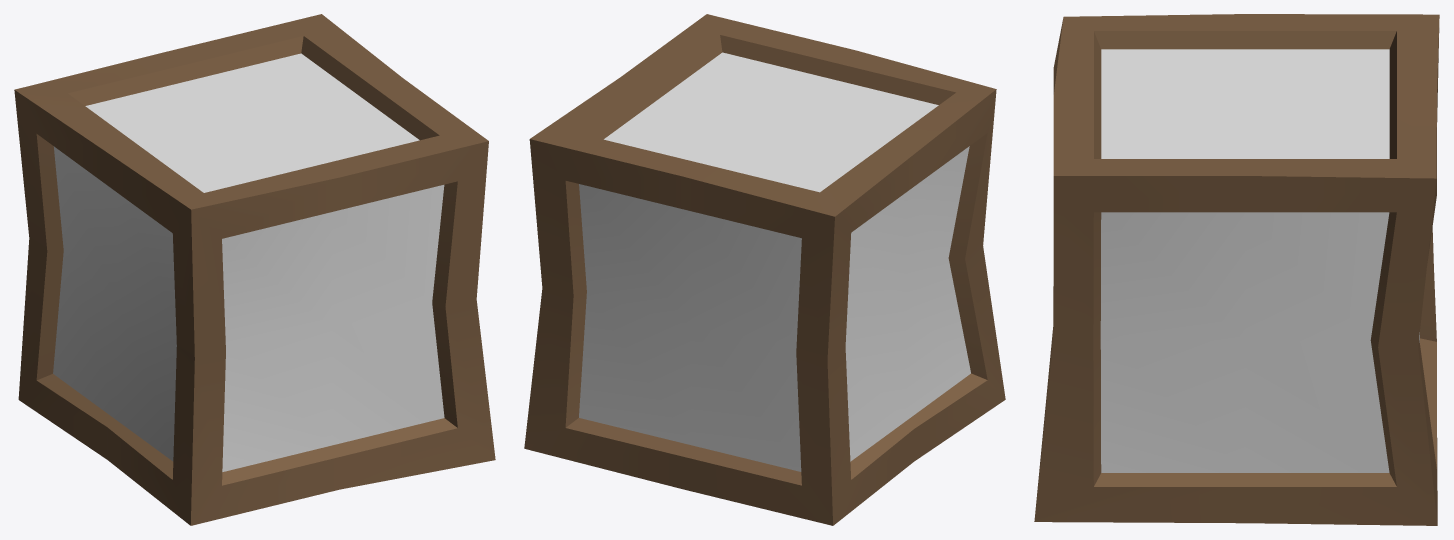
Rendered from caja.fbx.
The picture shows the model from 3 angles, left to right: view 1: azimuth 30°, elevation 25°; view 2: azimuth 150°, elevation 25°; view 3: azimuth 270°, elevation 25°; orthographic projection. The views are drawn at different scales.
Parts seen in each view (by area): view 1: caja; view 2: caja; view 3: caja.
Part boxes in pixels (bbox=[...]): caja: bbox=[14, 14, 495, 525]; caja: bbox=[524, 14, 1005, 525]; caja: bbox=[1034, 14, 1439, 525].
Size of the model in its own units: 311 by 298 by 315.
